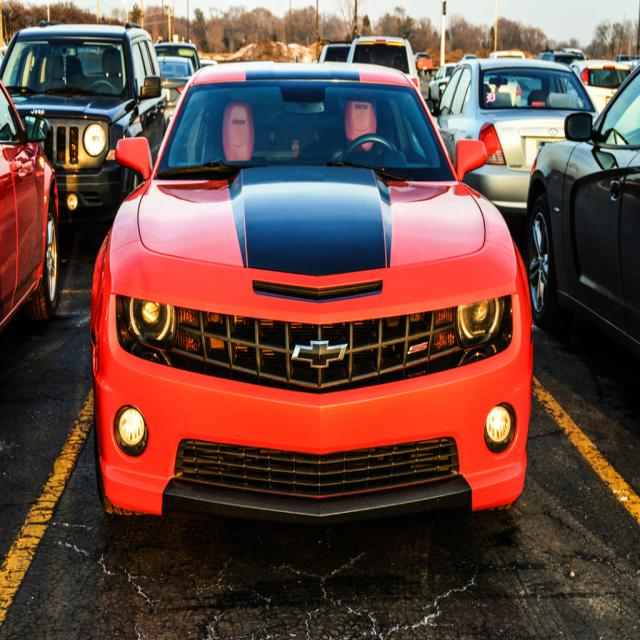car: (88, 61, 533, 520)
